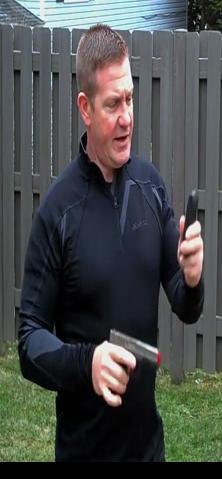pistol: (106, 327, 161, 406)
